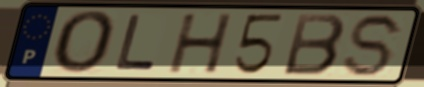5: (232, 12, 288, 77)
B: (280, 12, 348, 78)
H: (167, 12, 236, 76)
L: (112, 13, 159, 73)
O: (50, 8, 119, 76)
S: (340, 12, 408, 79)
